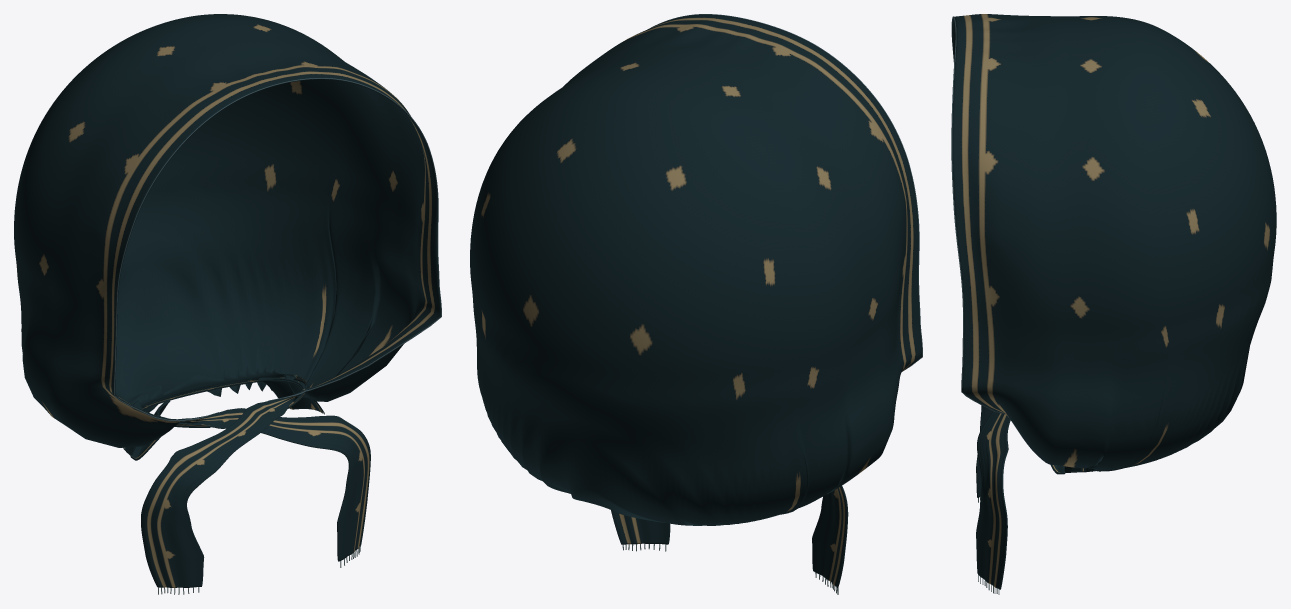
File: Masculine-Masculine-middle-part-sweatshirt-pashmina250-headgear-7a521b6c.glb
The picture shows the model from 3 angles, left to right: view 1: azimuth 30°, elevation 25°; view 2: azimuth 150°, elevation 25°; view 3: azimuth 270°, elevation 25°; orthographic projection. The views are drawn at different scales.
Parts seen in each view (by area): view 1: 226 headgear / Headwear / continuous woven pashmina239, 226 headgear / Headwear / face edge239; view 2: 226 headgear / Headwear / continuous woven pashmina239, 226 headgear / Headwear / face edge239; view 3: 226 headgear / Headwear / continuous woven pashmina239, 226 headgear / Headwear / face edge239.
Part boxes in pixels (<box>): 226 headgear / Headwear / continuous woven pashmina239: <box>14,14,440,587</box>; 226 headgear / Headwear / face edge239: <box>114,78,441,421</box>; 226 headgear / Headwear / continuous woven pashmina239: <box>470,14,921,587</box>; 226 headgear / Headwear / face edge239: <box>650,14,922,371</box>; 226 headgear / Headwear / continuous woven pashmina239: <box>952,14,1276,589</box>; 226 headgear / Headwear / face edge239: <box>951,16,1005,414</box>.
Bounding box in the file's own units: 0.9063 × 1.23 × 0.7056.
3 materials, 1 textured.
